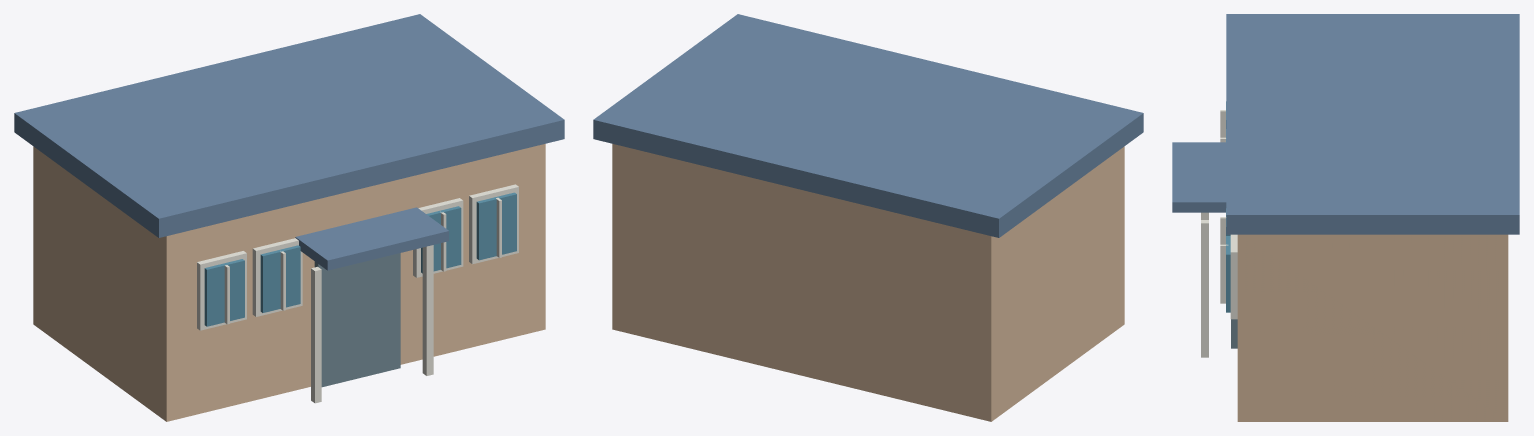
The model's file is school.gltf.
3 views of the same model, side by side, from view 1: azimuth 30°, elevation 25°; view 2: azimuth 150°, elevation 25°; view 3: azimuth 270°, elevation 25° (orthographic).
Visible parts, largest first — view 1: school architectural shell; view 2: school architectural shell; view 3: school architectural shell.
Boxes of the visible parts, bbox=[...] form: school architectural shell: bbox=[14, 14, 564, 421]; school architectural shell: bbox=[593, 14, 1143, 421]; school architectural shell: bbox=[1172, 14, 1519, 421].
Size of the model in its own units: 8.35 by 4.14 by 6.1.
